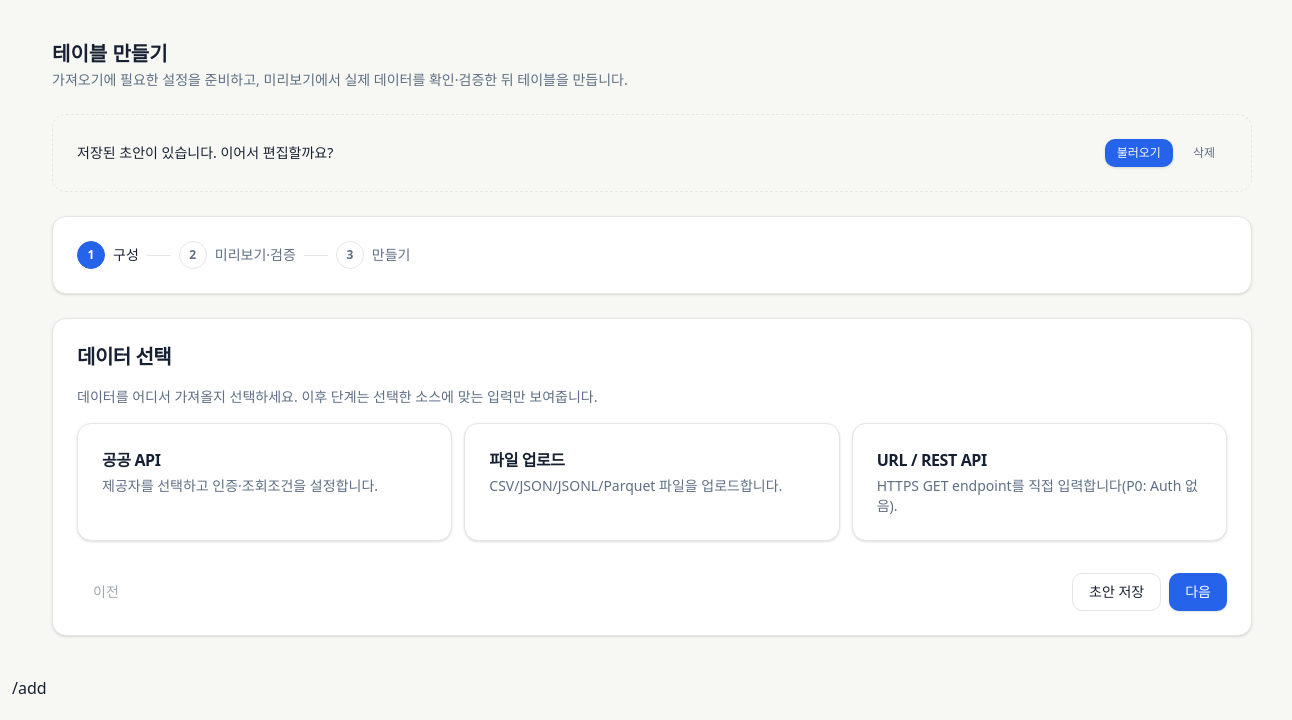
Scenario: one table creation flow (#534) › offers an Ask KPubData draft on /add
Click the button "불러오기": click(1139, 153) [1105,139,1173,167]
(page scrolled)
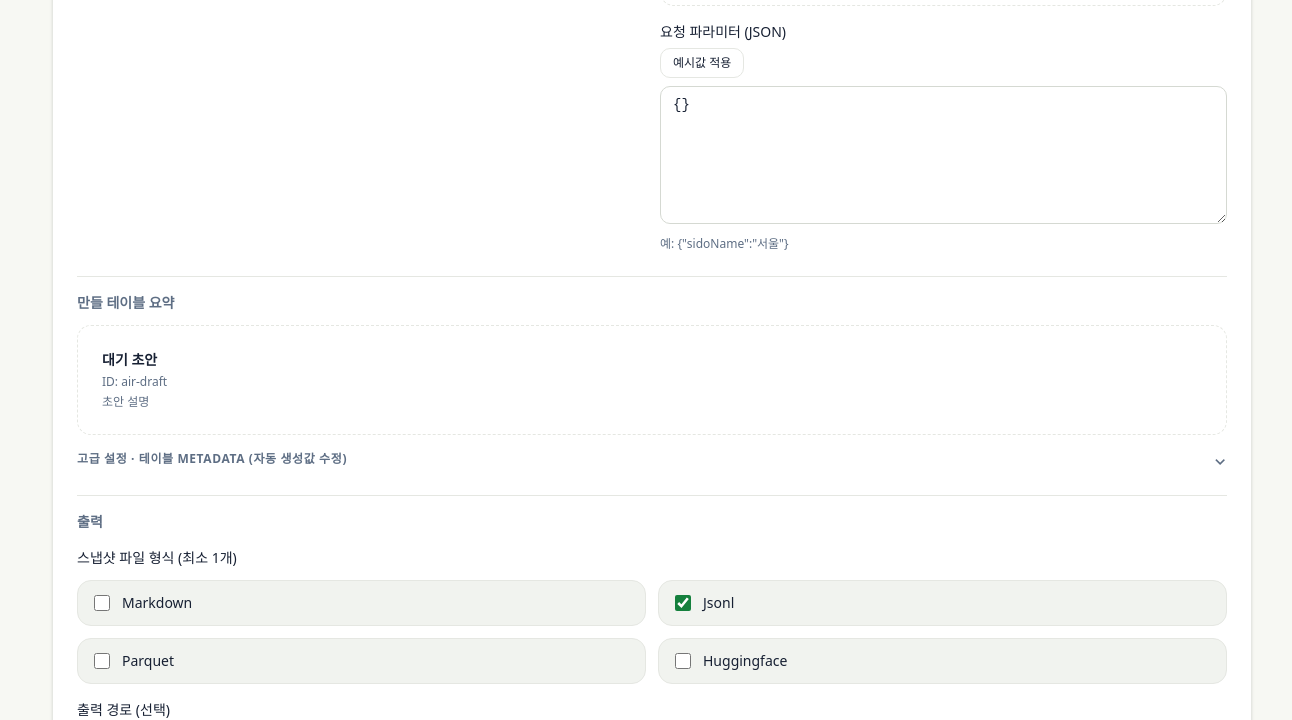
Expected: the text "대기 초안" is shown, [102,350,157,369]
